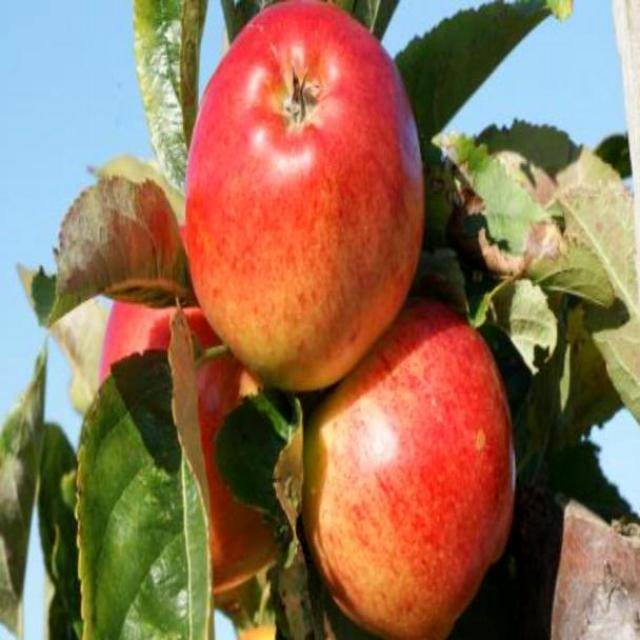HEALTHY: (183, 9, 434, 368), (295, 341, 530, 635)
